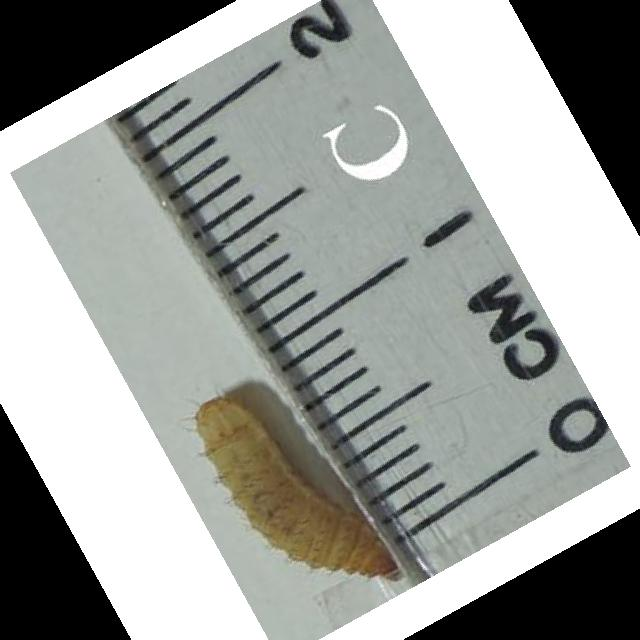Maggot: (194, 394, 402, 586)
